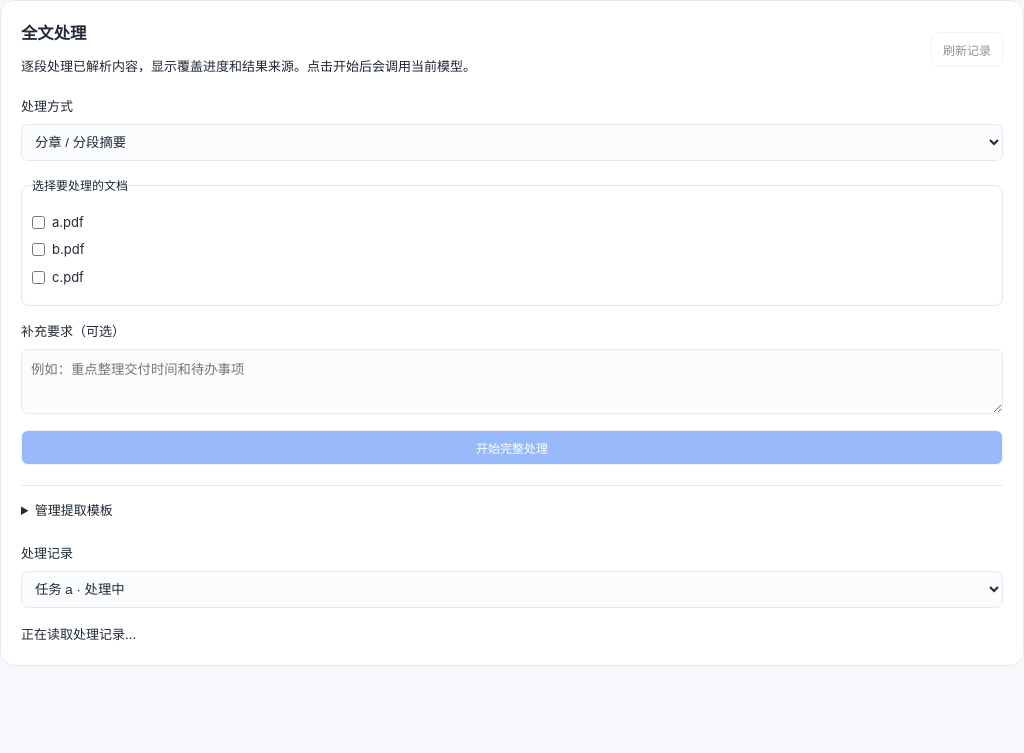
Scenario: full document workflow controls › ignores late run reads and stale control failures after another record is selected
Select "任务 b · 已完成" in the dropdown named "全文处理记录": (512, 589) x1=21 y1=571 x2=1003 y2=608
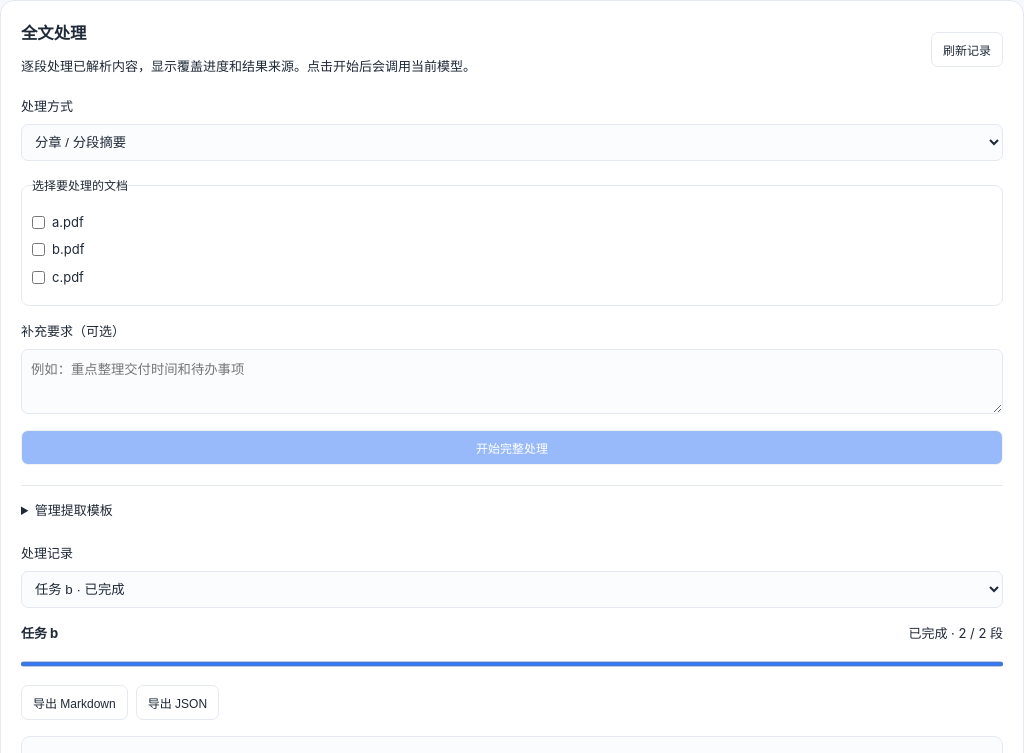
Result: the element with class "run-heading" shows "任务 b" at x1=21 y1=625 x2=58 y2=641
Select "任务 a · 处理中" in the dropdown named "全文处理记录": (512, 589) x1=21 y1=571 x2=1003 y2=608
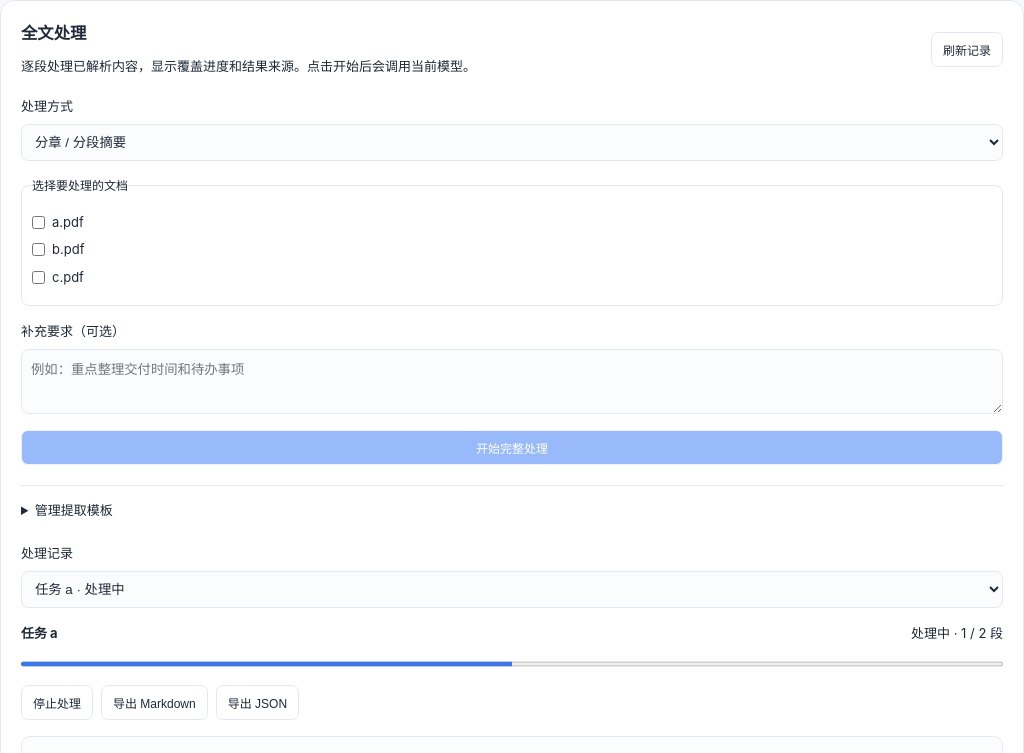
Click the button "停止处理": (57, 703) x1=21 y1=685 x2=93 y2=720
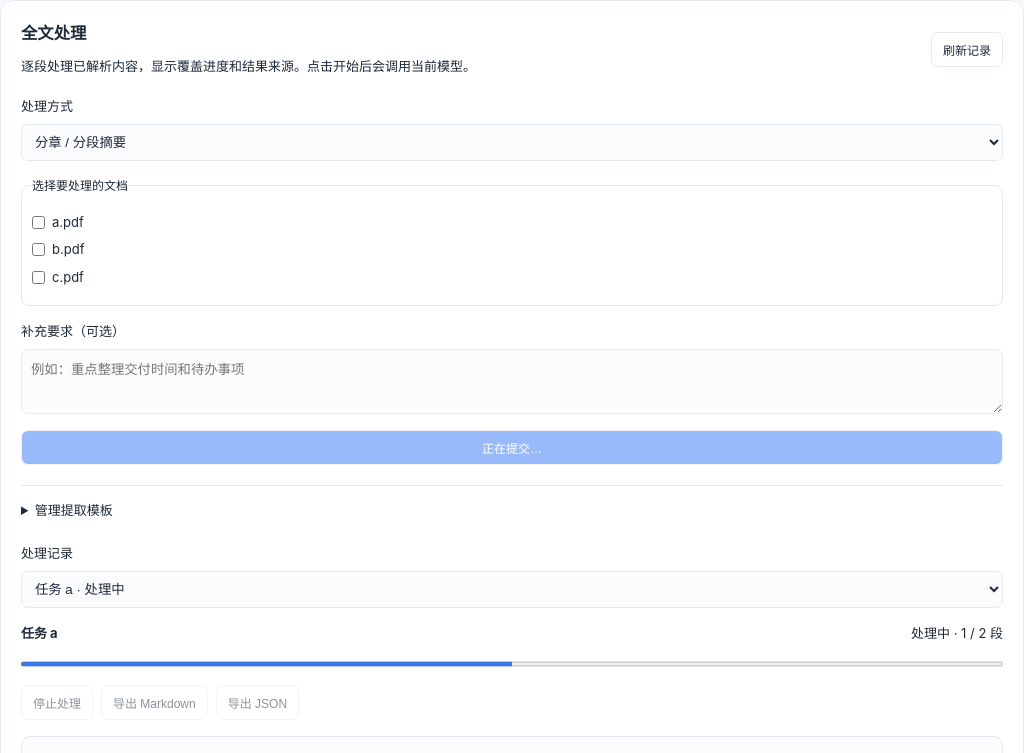
Select "任务 b · 已完成" in the dropdown named "全文处理记录": (512, 589) x1=21 y1=571 x2=1003 y2=608
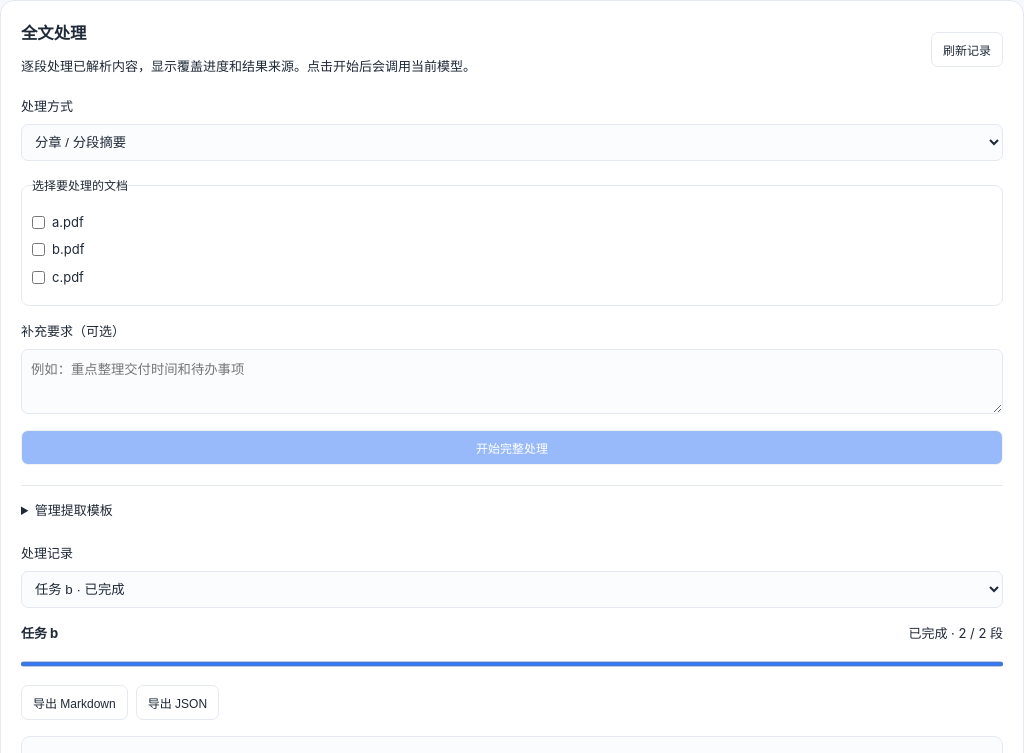
Result: the element with class "run-heading" shows "任务 b" at x1=21 y1=625 x2=58 y2=641
